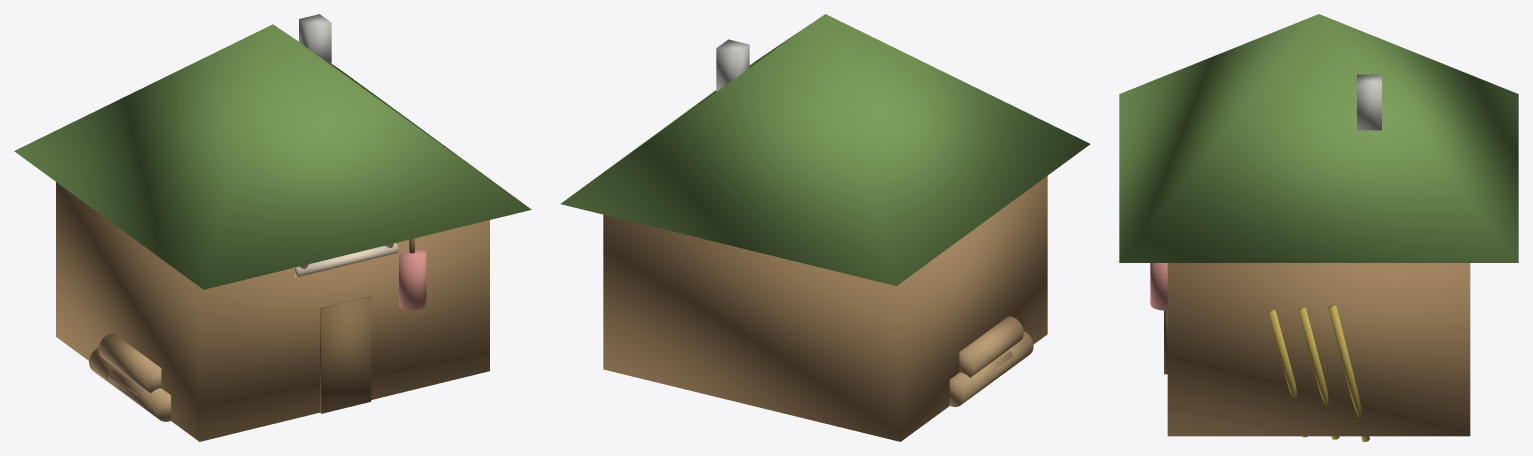
Rendered from hunting_lodge.glb.
The picture shows the model from 3 angles, left to right: view 1: azimuth 30°, elevation 25°; view 2: azimuth 150°, elevation 25°; view 3: azimuth 270°, elevation 25°; orthographic projection. The views are drawn at different scales.
Parts seen in each view (by area): view 1: Roof, Cabin, Door, Log2, HangingGame, Log0, Chimney, AntlerBar, Log1; view 2: Roof, Cabin, Log2, Chimney, Log1, Log0; view 3: Roof, Cabin, Chimney, Bow0, Bow1, HangingGame, Bow2.
Part boxes in pixels (x1,y1,x2,y2): Roof: (14, 24, 531, 289); Cabin: (56, 182, 489, 441); Door: (320, 296, 371, 413); Log2: (98, 333, 161, 393); HangingGame: (399, 248, 426, 310); Log0: (108, 367, 170, 421); Chimney: (299, 14, 331, 64); AntlerBar: (295, 243, 398, 277); Log1: (89, 347, 140, 404); Roof: (560, 14, 1090, 285); Cabin: (603, 176, 1047, 441); Log2: (959, 316, 1023, 377); Chimney: (716, 39, 749, 91); Log1: (949, 350, 1013, 406); Log0: (984, 331, 1033, 385); Roof: (1119, 14, 1518, 262); Cabin: (1167, 263, 1470, 436); Chimney: (1357, 74, 1381, 130); Bow0: (1328, 305, 1369, 441); Bow1: (1298, 307, 1339, 439); HangingGame: (1150, 263, 1167, 310); Bow2: (1268, 309, 1307, 437).
Size of the model in its own units: 3.99 by 3.88 by 3.96.
